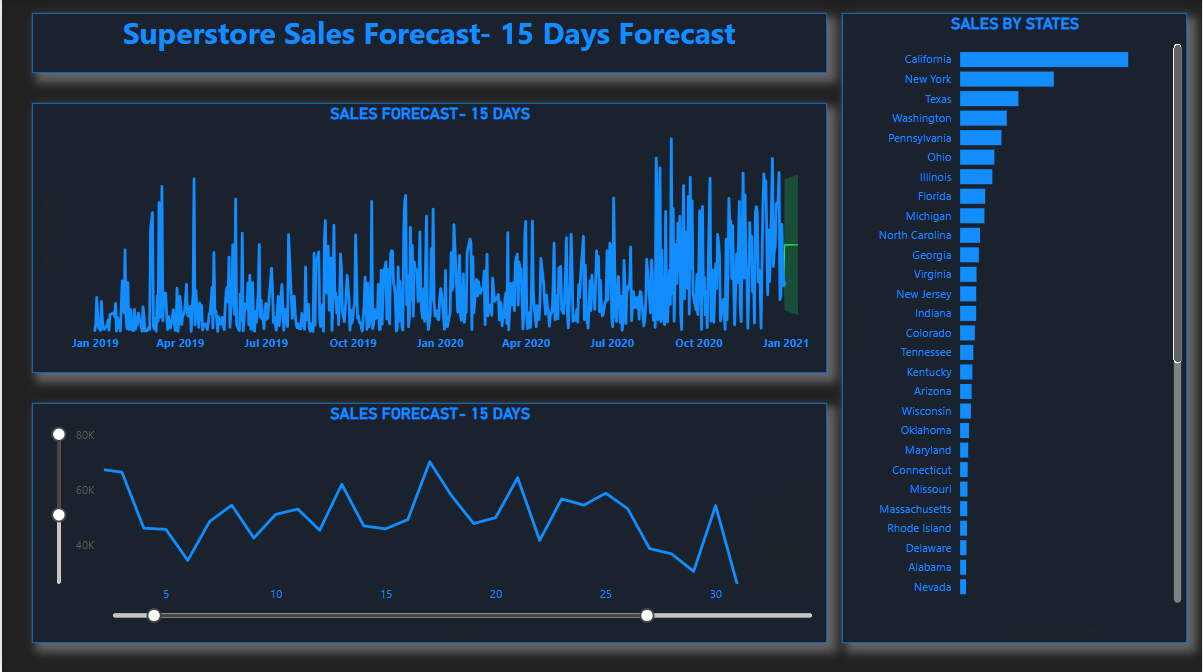

The page's visual inventory and layout, read from the dashboard file:
{"tool":"powerbi","page":{"name":"Page 2","canvas":[1280,720],"ordinal":1},"visuals":[{"type":"lineChart","title":"SALES FORECAST- 15 DAYS","fields":{"Y":["Sum(Sheet1.Sales)"],"Category":["Sheet1.Order Date"]},"box":[32,112,848,288],"z":0},{"type":"lineChart","title":"SALES FORECAST- 15 DAYS","fields":{"Y":["Sum(Sheet1.Sales)"],"Category":["Sheet1.Order Date.Variation.Date Hierarchy.Day"]},"box":[32,432,848,256],"z":1000},{"type":"clusteredBarChart","title":"SALES BY STATES","fields":{"Category":["Sheet1.State"],"Y":["Sum(Sheet1.Sales)"]},"box":[912,16,352,672],"z":2000},{"type":"textbox","box":[32,16,848,64],"z":3000}]}

Visuals, with their boxes in screenshot pixels (x1, y1, x2, y2), scaled from the page's 1280x720 canvas onto the 1203x672 screenshot:
"SALES FORECAST- 15 DAYS" lineChart: bbox=(30, 105, 827, 373)
"SALES FORECAST- 15 DAYS" lineChart: bbox=(30, 403, 827, 642)
"SALES BY STATES" clusteredBarChart: bbox=(857, 15, 1188, 642)
textbox: bbox=(30, 15, 827, 75)
